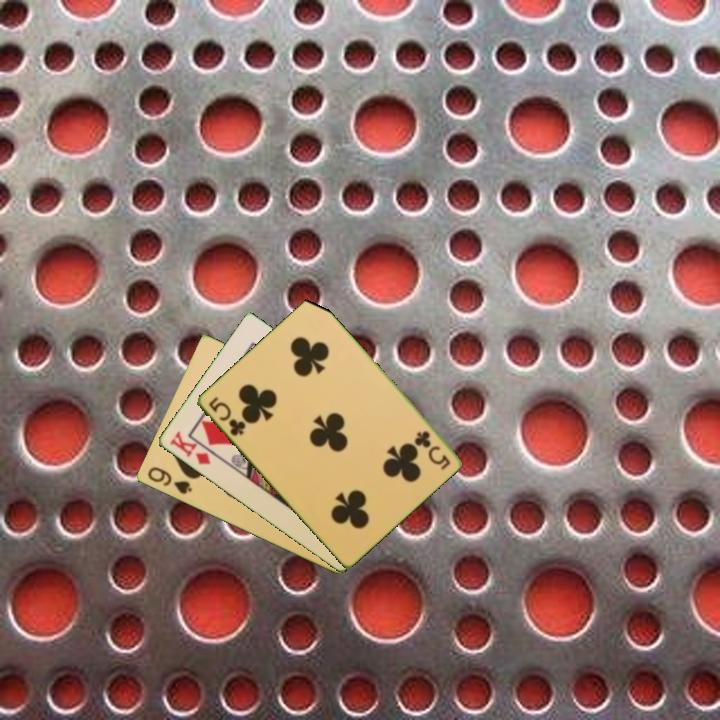5c: (205, 393, 248, 439), (411, 427, 453, 473)
9s: (144, 463, 195, 497)
Kd: (166, 427, 213, 468)
